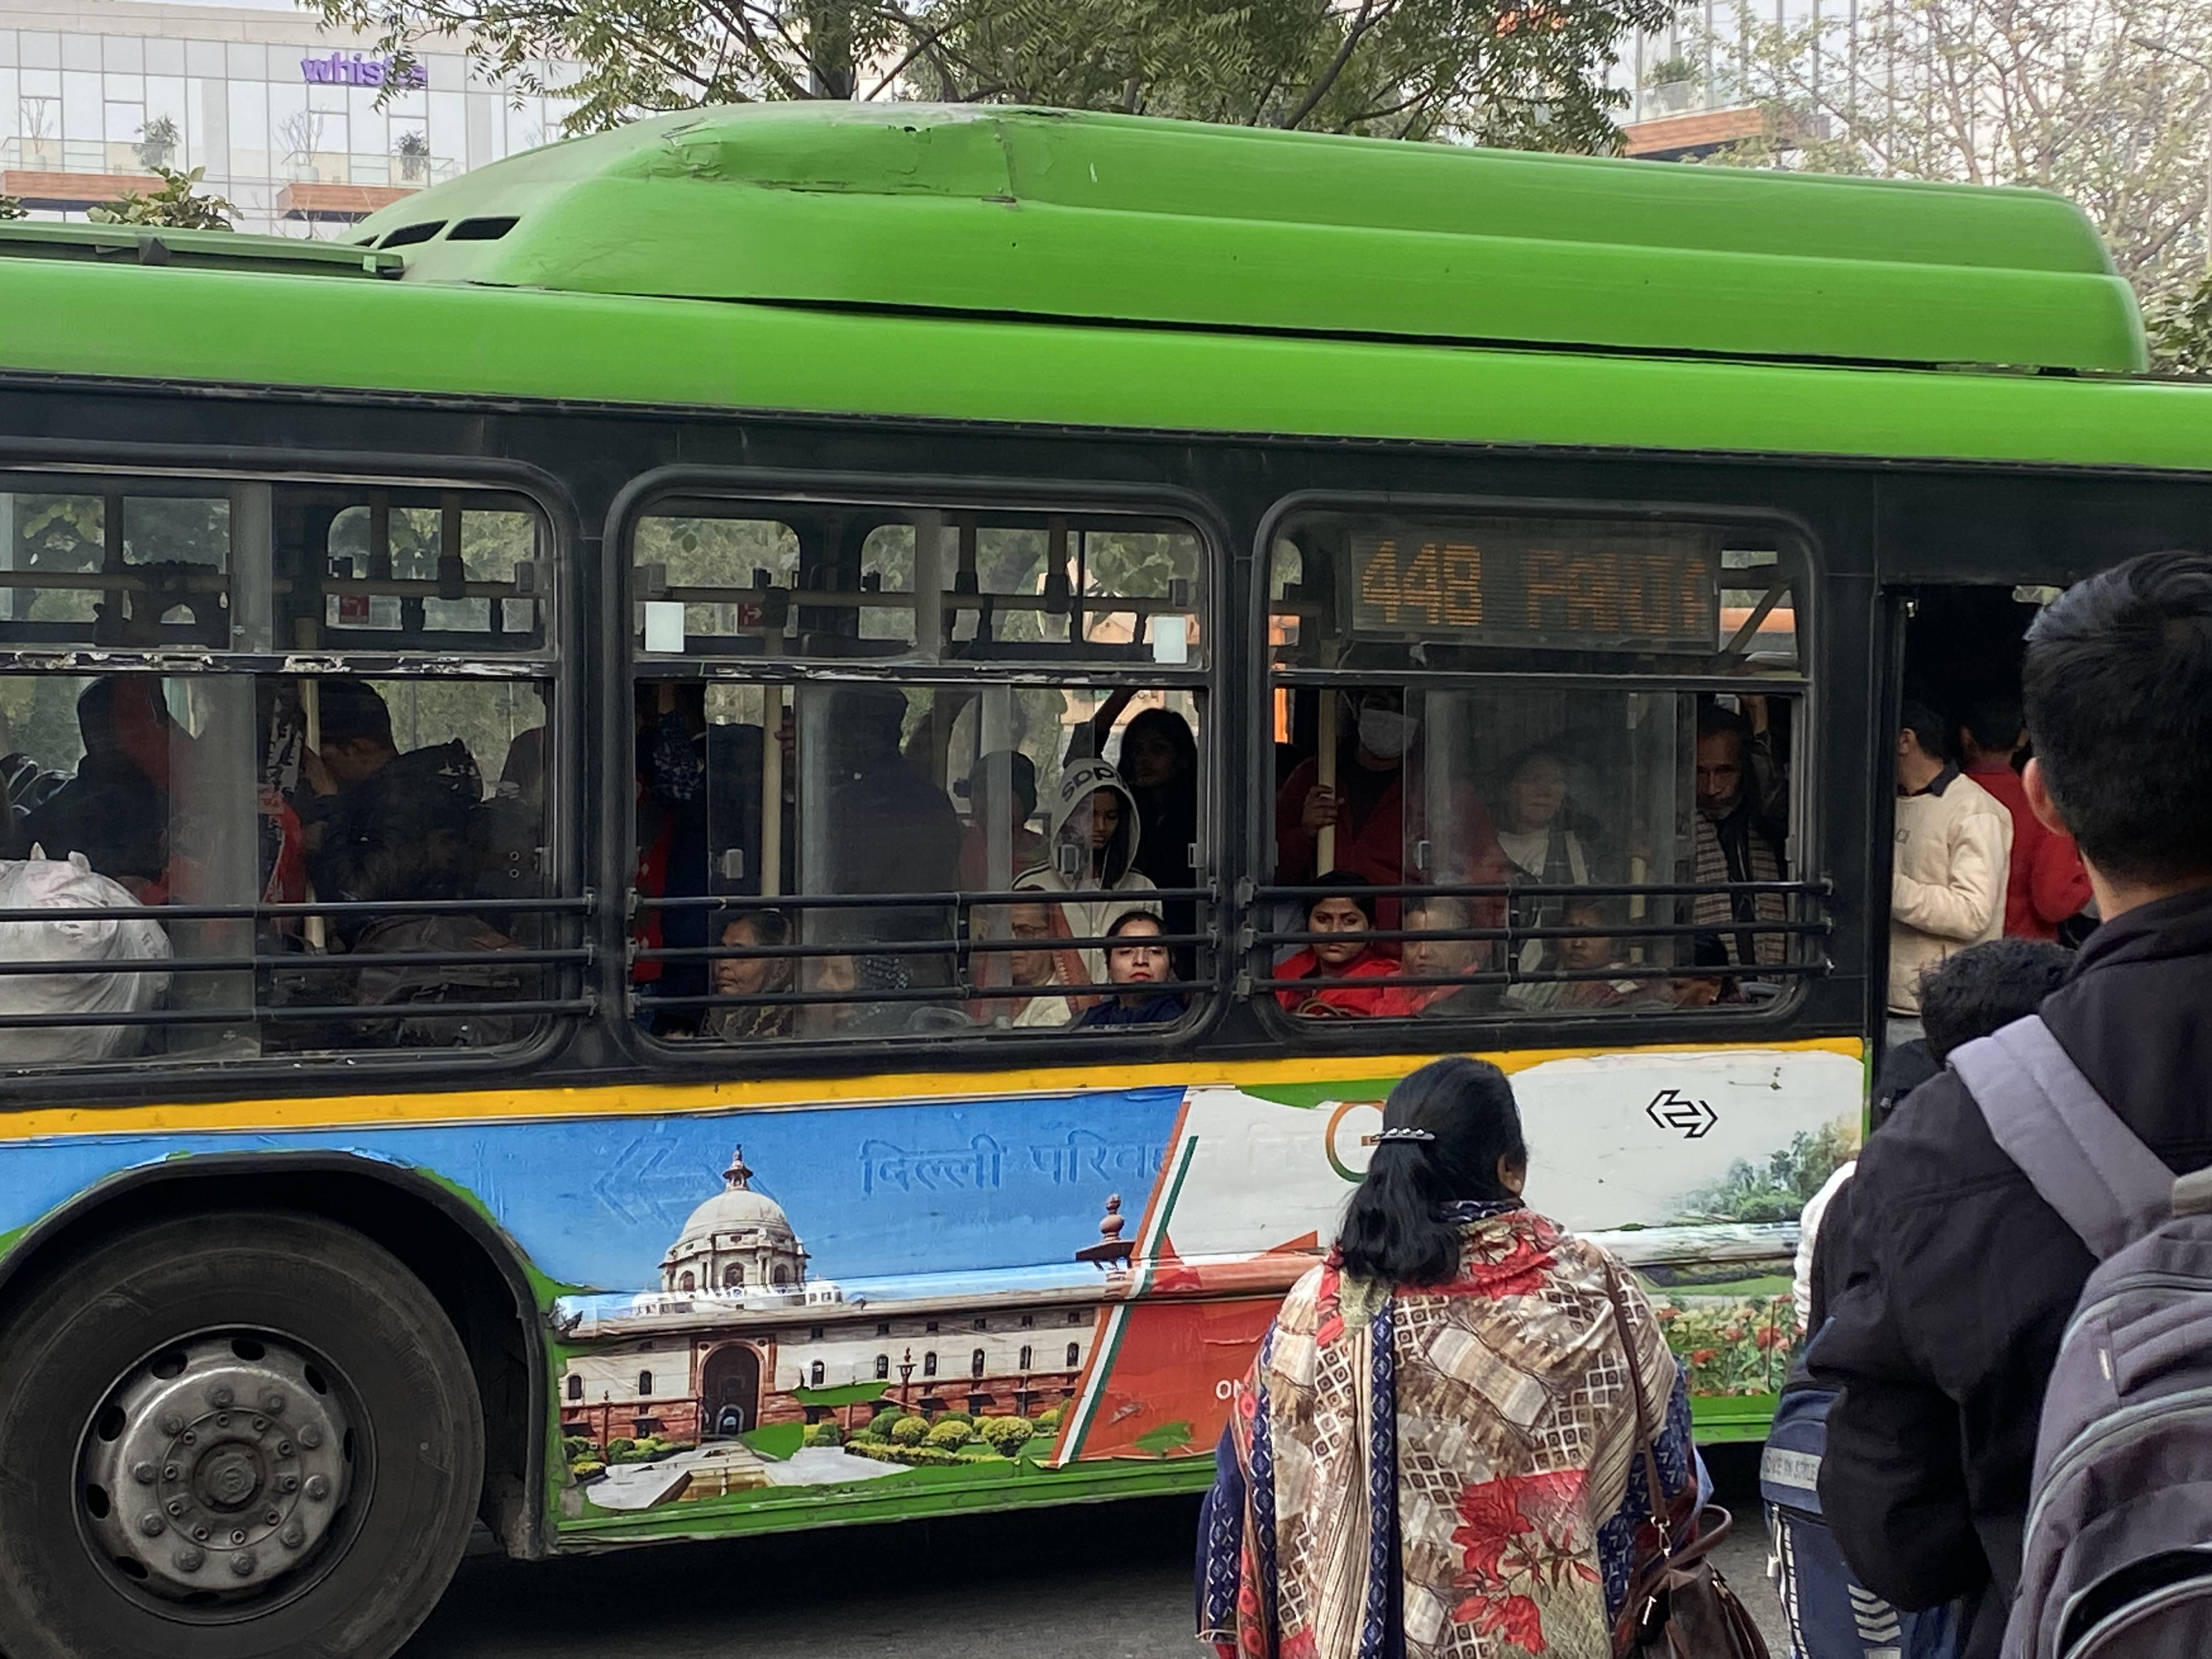Bus: (0, 164, 2212, 1601)
Display Board: (1339, 505, 1723, 680)
